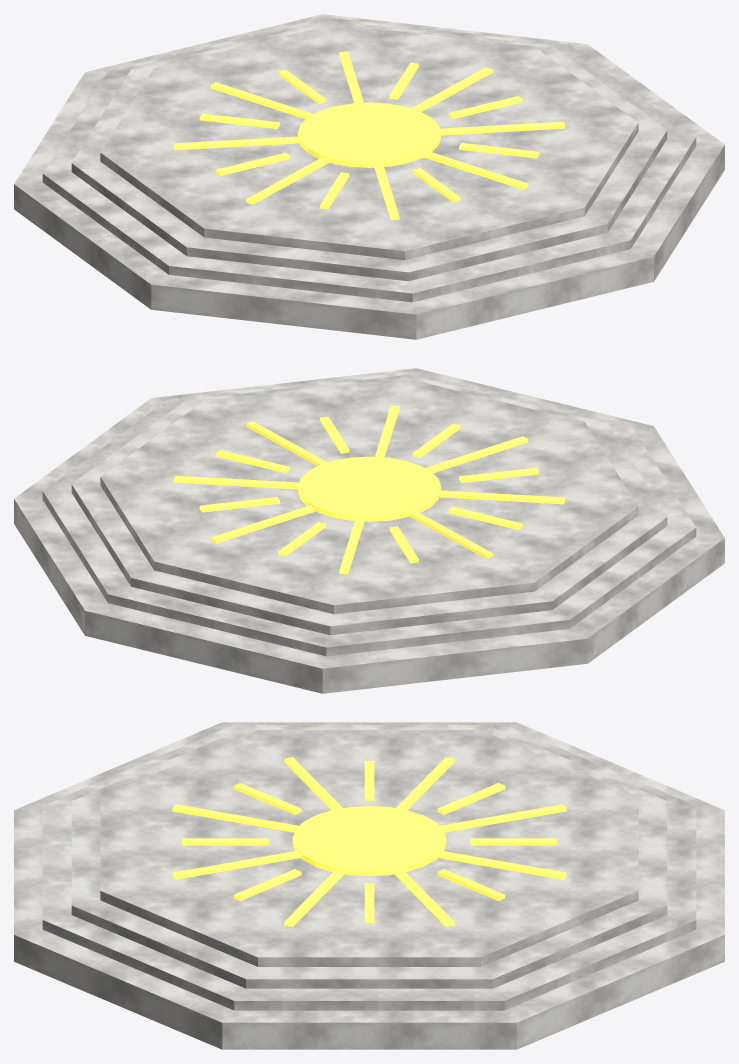
Rendered from sun_altar.glb.
3 views of the same model, one above another, from view 1: azimuth 30°, elevation 25°; view 2: azimuth 150°, elevation 25°; view 3: azimuth 270°, elevation 25° (orthographic). The views are drawn at different scales.
Visible parts, largest first — view 1: Dais, Sun; view 2: Dais, Sun; view 3: Dais, Sun.
Boxes of the visible parts, x1,y1,x2,y2 form: Dais: (14, 14, 724, 339); Sun: (173, 51, 565, 220); Dais: (14, 368, 724, 693); Sun: (173, 405, 565, 574); Dais: (14, 722, 724, 1049); Sun: (172, 757, 566, 926).
Size of what is drawn, in the model's own units: 14.8 by 1.4 by 14.8.
Materials: 2 (1 with a texture image).
